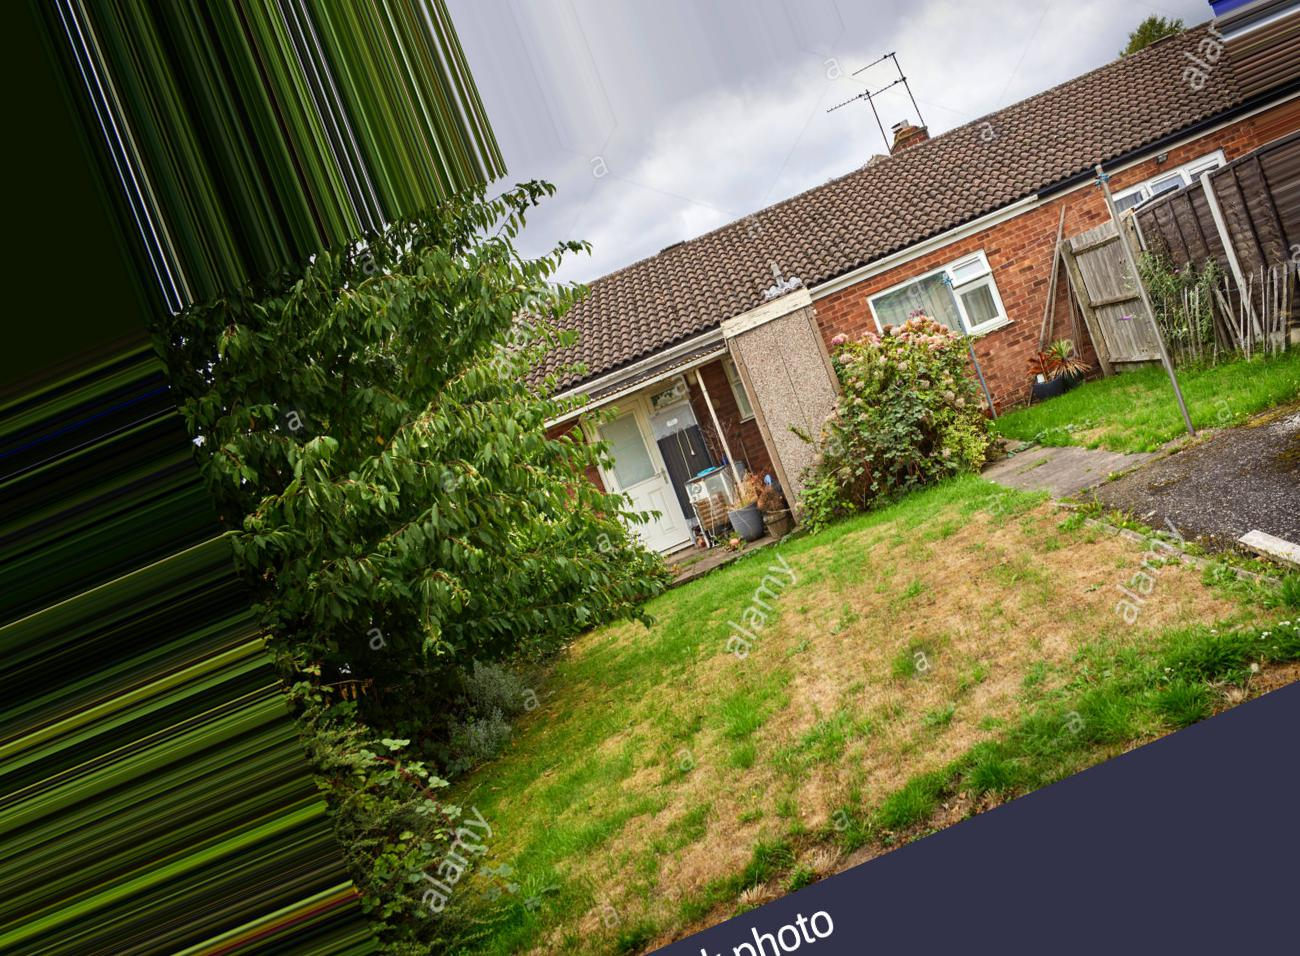patch: (795, 538, 1074, 688), (793, 687, 981, 765), (971, 508, 1137, 592), (658, 774, 772, 873), (1077, 585, 1184, 628)
